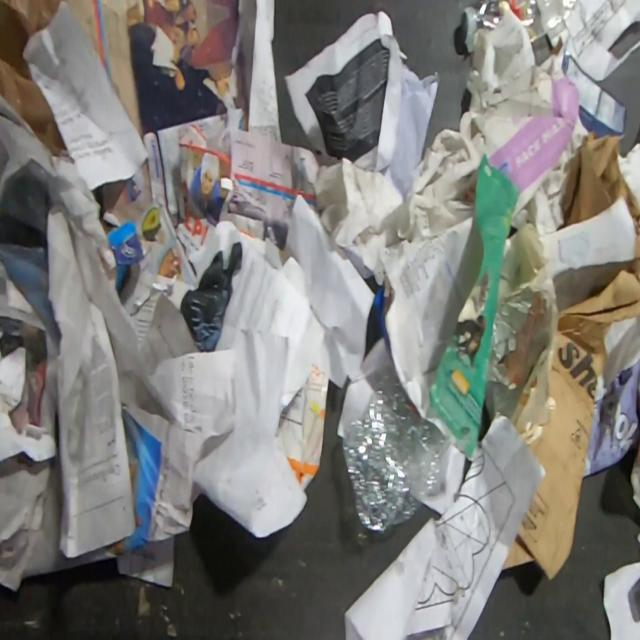cardboard: (548, 35, 626, 141), (274, 362, 330, 492)
rigid_plastic: (342, 364, 454, 532), (486, 286, 549, 391), (464, 0, 578, 43)
